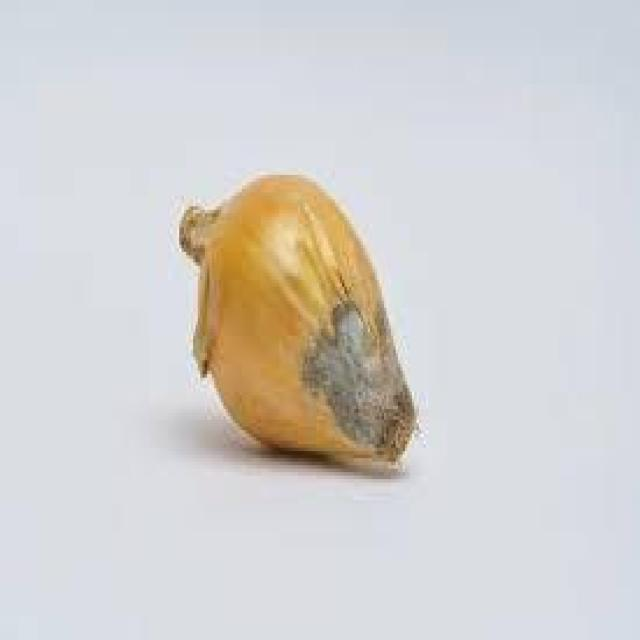Onion: (177, 150, 423, 510)
